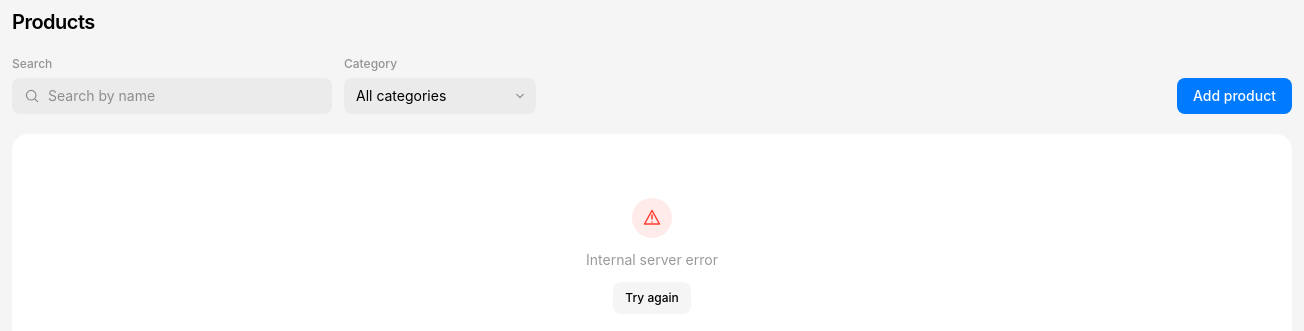
Test: product listing › shows an error state and retries
Check: the message "Internal server error Try again" is shown, box [586,198,718,314]
Click the button "Try again" at point(652, 298), box [613,282,691,314]
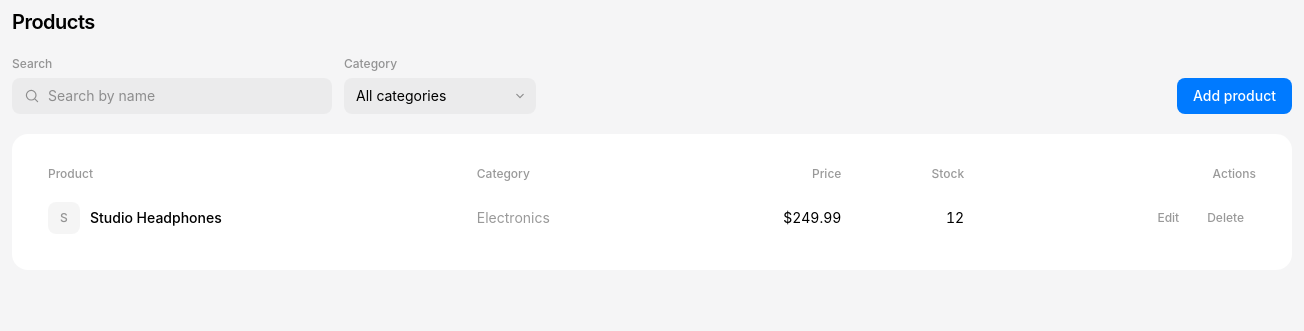
Check: the text "Studio Headphones" is shown, box [90,208,222,228]
